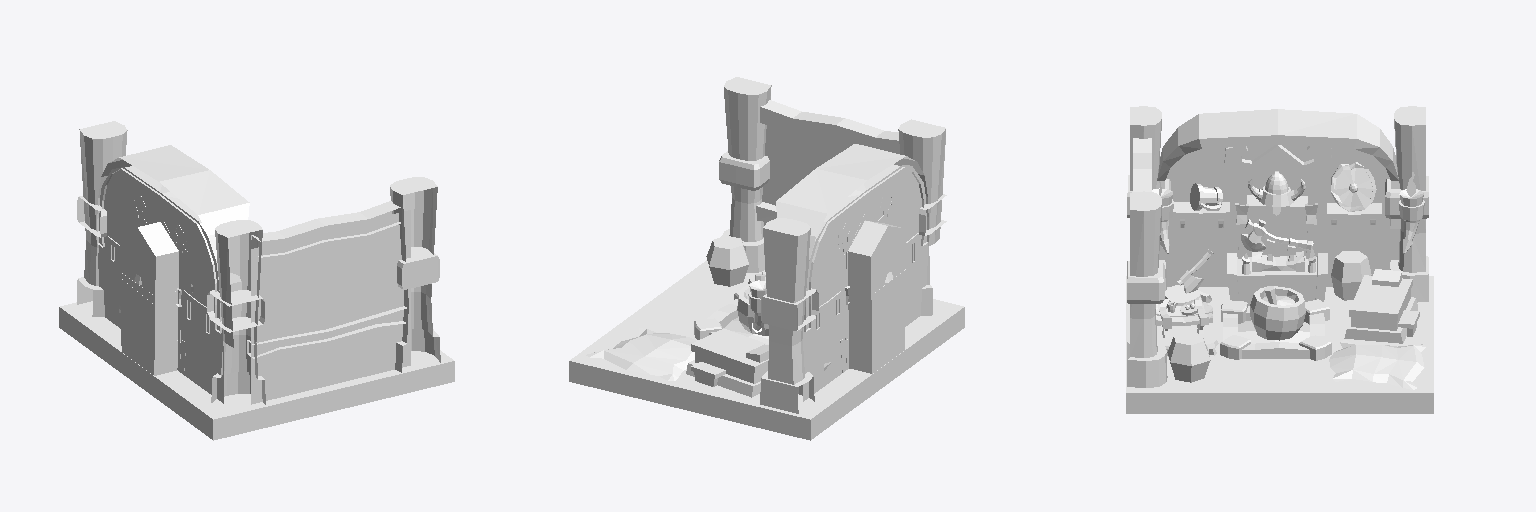
The model's file is viking_room.obj.
The picture shows the model from 3 angles: view 1: azimuth 30°, elevation 25°; view 2: azimuth 150°, elevation 25°; view 3: azimuth 270°, elevation 25°; orthographic projection.
Parts seen in each view (by area): view 1: mesh_all1_Texture1_0; view 2: mesh_all1_Texture1_0; view 3: mesh_all1_Texture1_0.
Boxes of the visible parts, x1,y1,x2,y2 form: mesh_all1_Texture1_0: [59, 121, 454, 440]; mesh_all1_Texture1_0: [569, 77, 964, 440]; mesh_all1_Texture1_0: [1126, 106, 1433, 413].
Bounding box in the file's own units: 1.33 × 1.03 × 1.46.